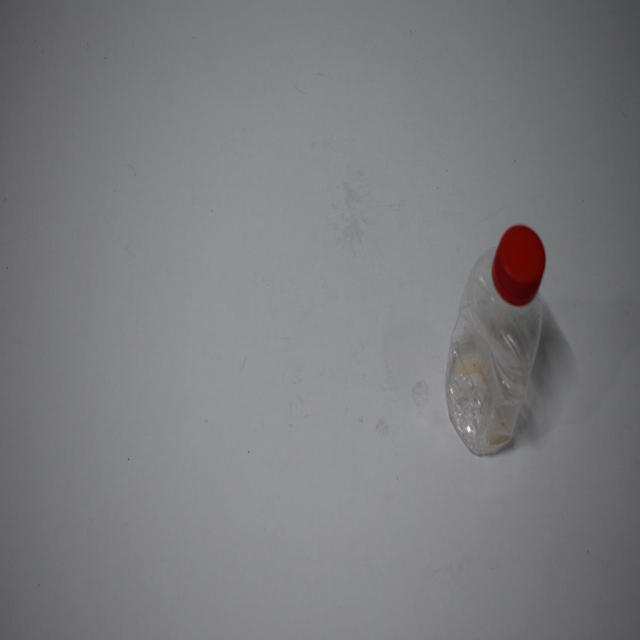bottle: (438, 210, 551, 495)
